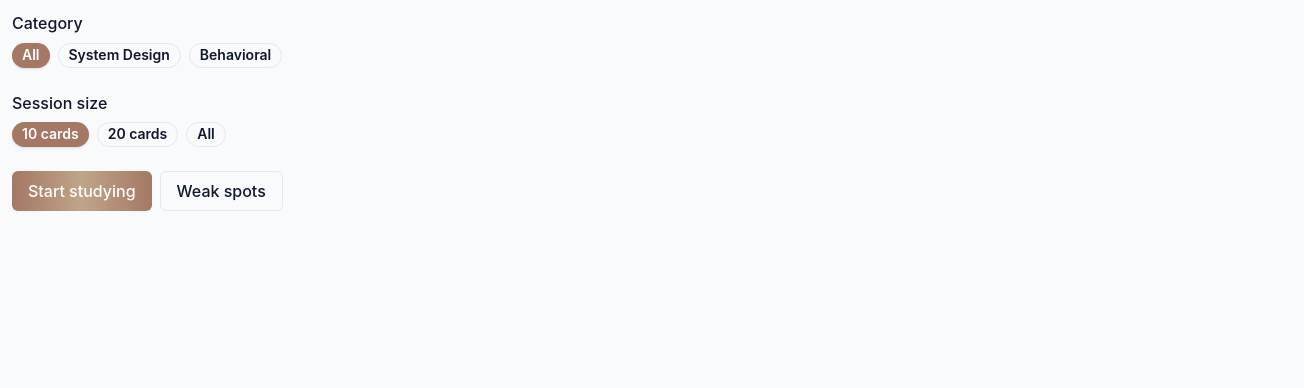
it: StudyDeck flow › rates the current card with a digit key and advances to the next
Click the button "Start studying".
click(82, 191)  # box x1=12 y1=171 x2=152 y2=211
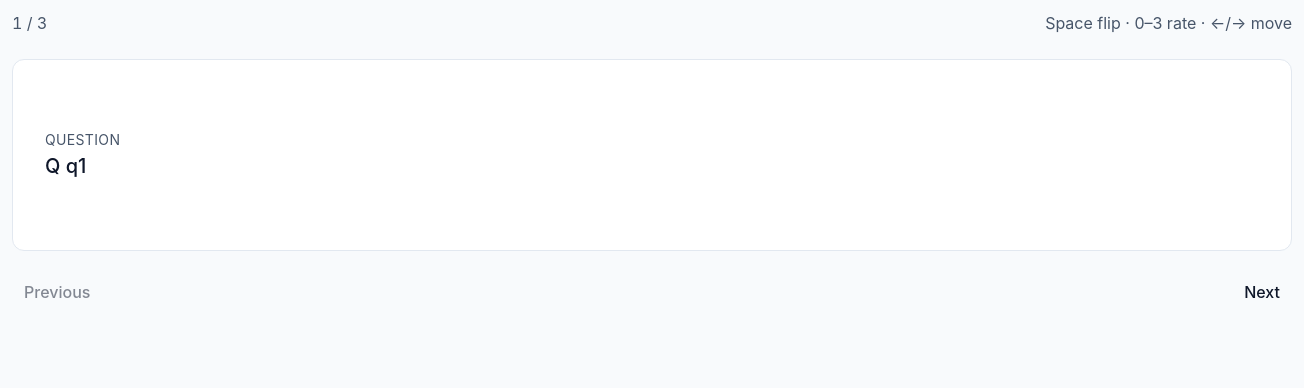
Type keys "[Space]"
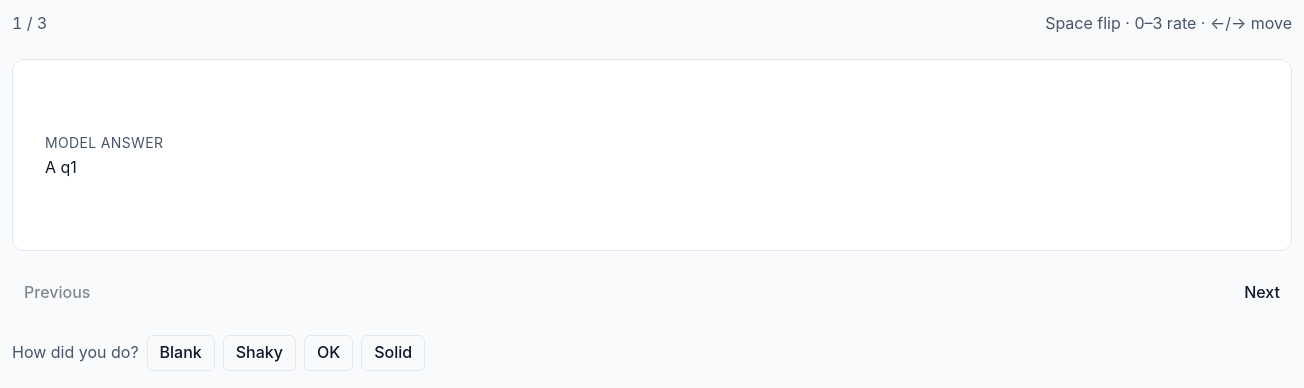
Check: the text "A q1" is shown, box x1=45 y1=157 x2=77 y2=177
Type keys "3"
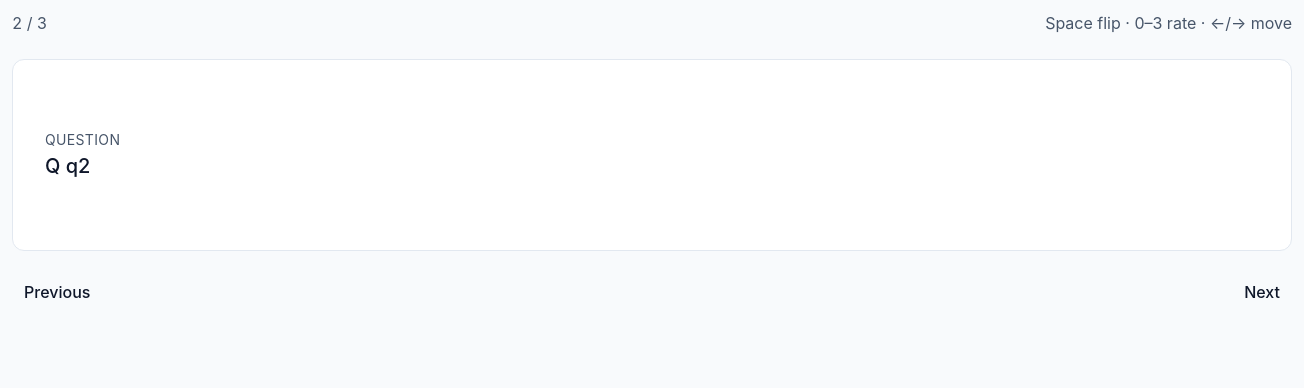
Check: the text "Q q2" is shown, box x1=45 y1=154 x2=90 y2=178
Check: the text "2 / 3" is shown, box x1=12 y1=12 x2=47 y2=35
